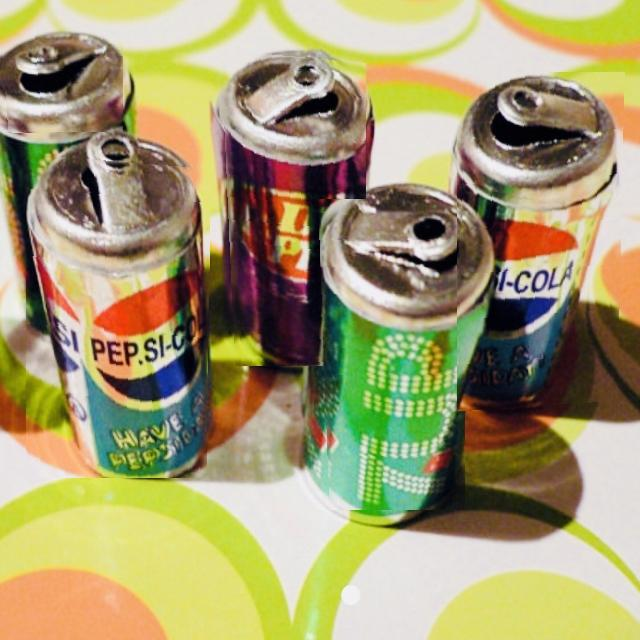Cans: (26, 154, 211, 478), (457, 72, 625, 412), (221, 50, 366, 366), (318, 199, 465, 510), (0, 27, 123, 133)
